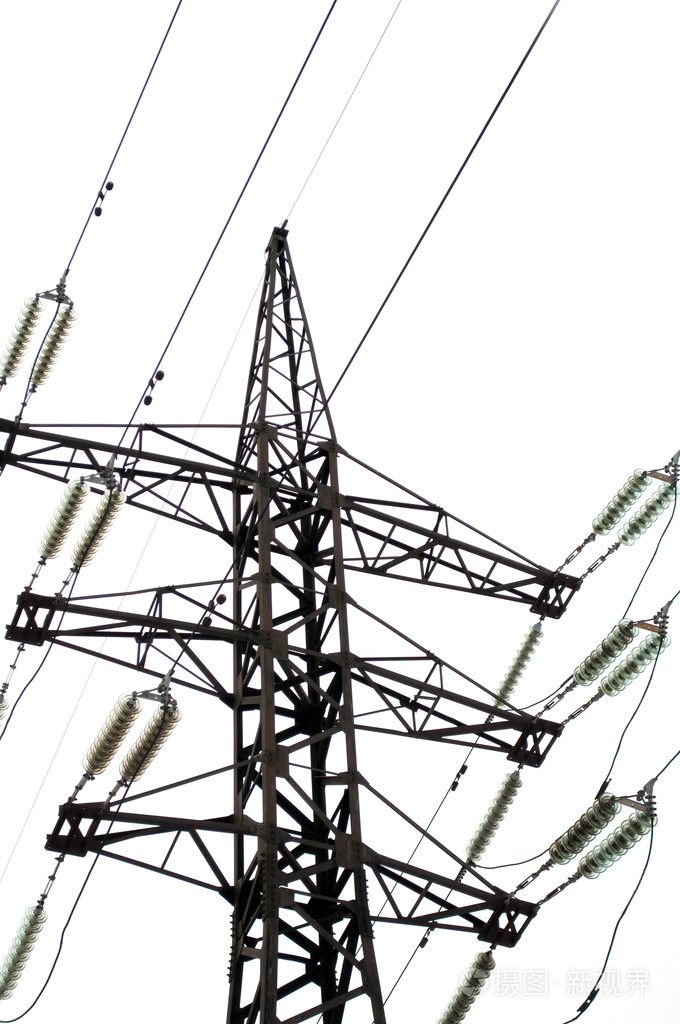insulator: (78, 688, 180, 781), (548, 795, 653, 880), (35, 473, 126, 567), (570, 619, 663, 699), (587, 472, 680, 545), (1, 289, 74, 376), (463, 773, 520, 859), (492, 623, 545, 708), (1, 903, 49, 995), (438, 950, 496, 1022)
